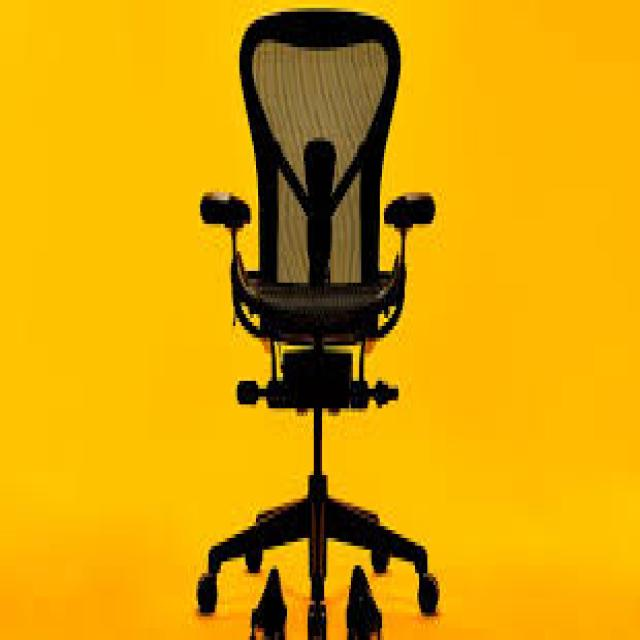chair: (160, 0, 503, 640)
